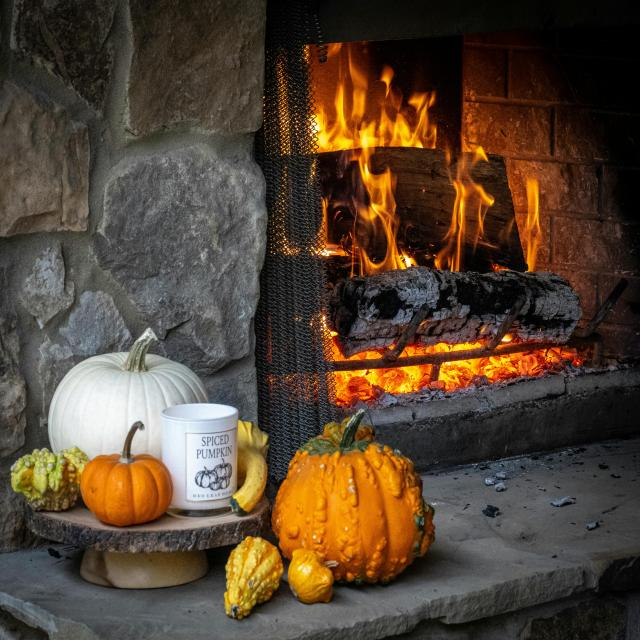fire: (281, 45, 585, 389)
